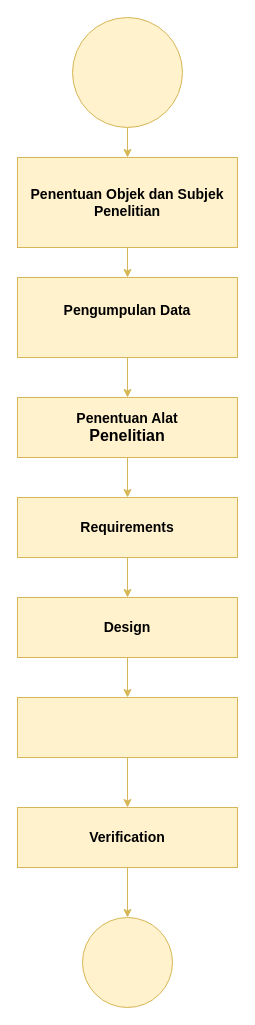
Image size: 255x1025. Some labels were removed from this diagram. The box of each missing label's shape, as (x1, y1, x2, y2) in pixels:
Implementation: (16, 696, 238, 758)
MULAI: (72, 16, 182, 128)
Selesai: (82, 916, 172, 1008)
